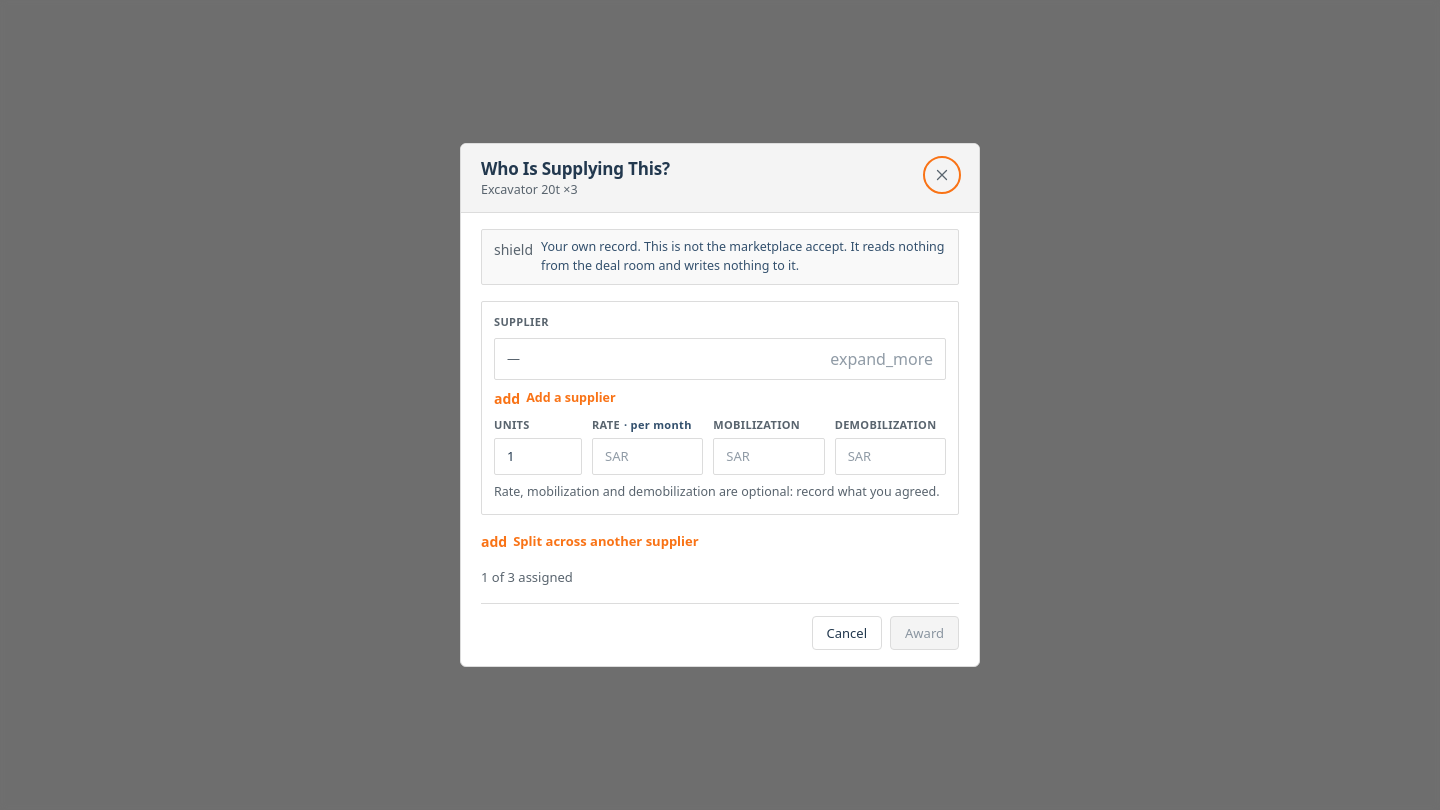
Scenario: who may be awarded › Given an unregistered supplier, When the list opens, Then it says so and still lets them be picked
The image size is (1440, 810).
Click the dropdown named "Supplier" at (882, 359), box [494,338,946,380]
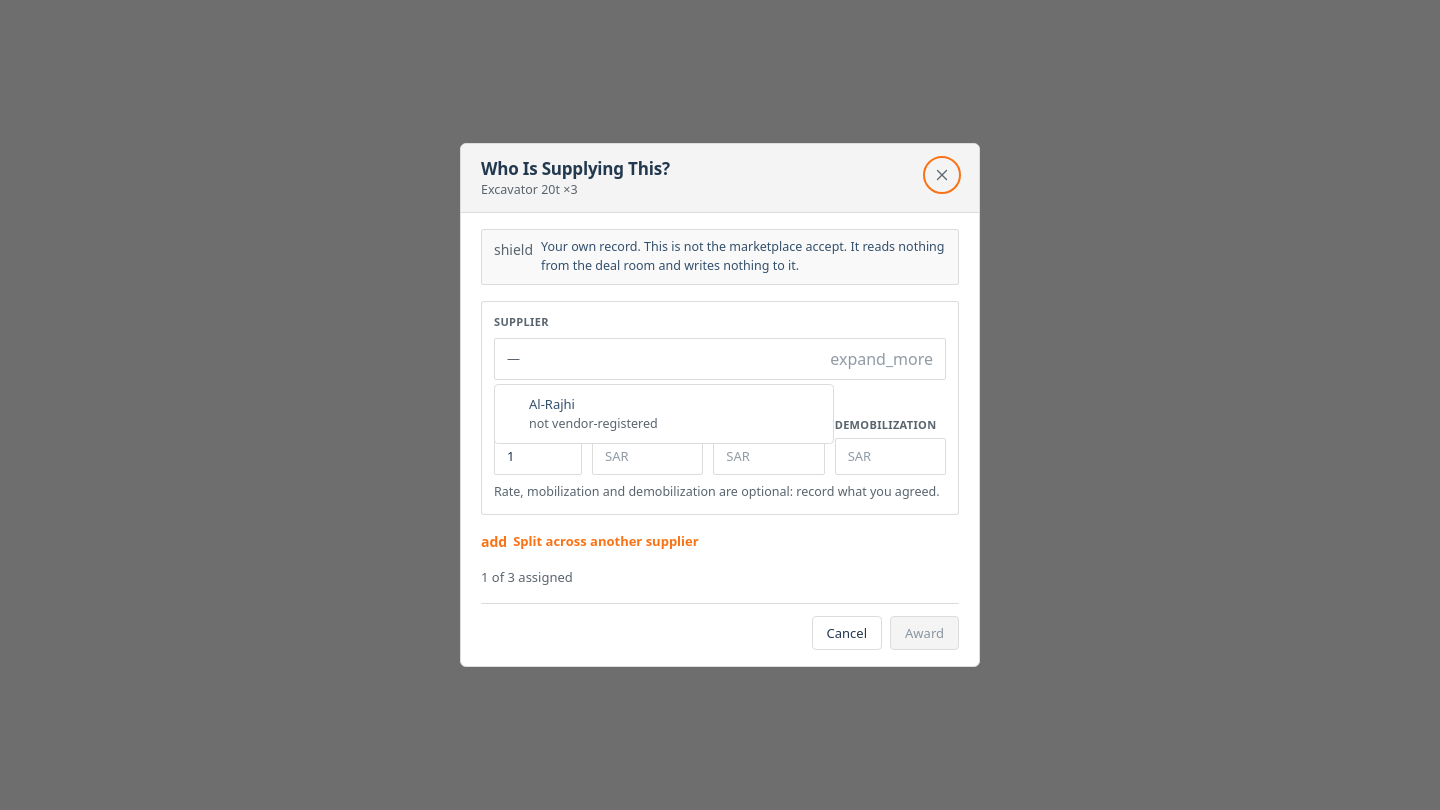
Result: the option "Al-Rajhi not vendor-registered" is shown at [495,389,833,439]
Result: the option "Al-Rajhi not vendor-registered" is enabled at [495,389,833,439]
